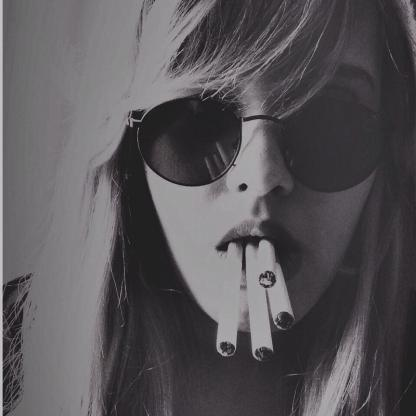smoking: (246, 236, 274, 361), (217, 234, 244, 357), (266, 252, 294, 330), (259, 228, 276, 288)
